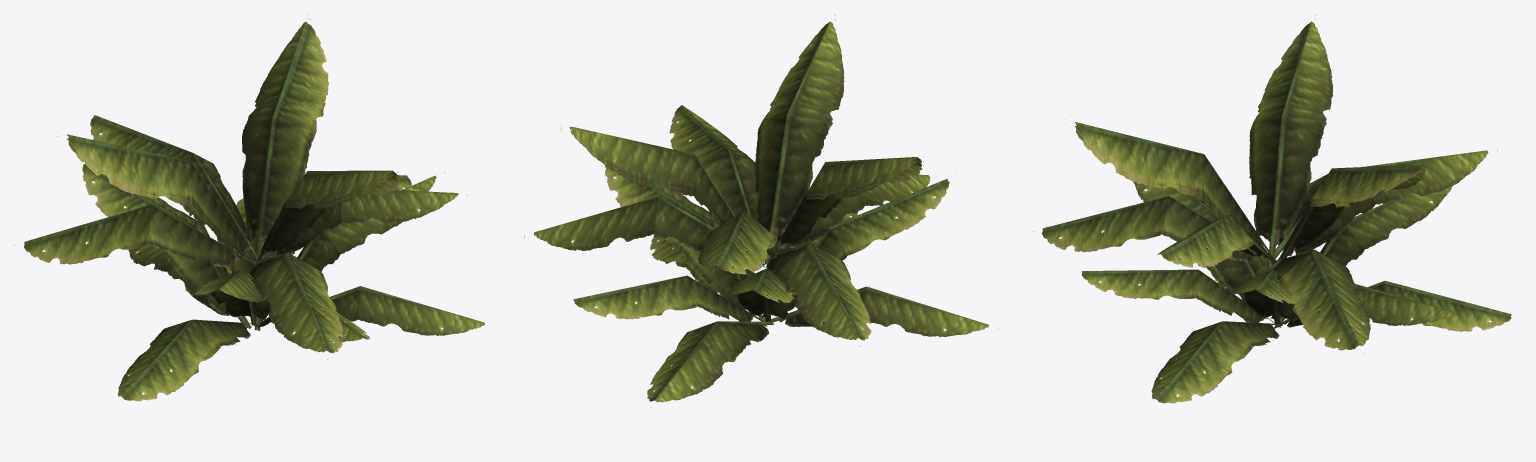
The model's file is tropic_bush_v2.glb.
3 views of the same model, side by side, from view 1: azimuth 30°, elevation 25°; view 2: azimuth 150°, elevation 25°; view 3: azimuth 270°, elevation 25° (orthographic).
Parts seen in each view (by area): view 1: fern_tropical_a; view 2: fern_tropical_a; view 3: fern_tropical_a.
Boxes of the visible parts, <box> form: fern_tropical_a: <box>14,14,494,401</box>; fern_tropical_a: <box>524,14,998,407</box>; fern_tropical_a: <box>1033,14,1511,403</box>.
Size of the model in its own units: 8.8 by 5 by 9.02.
Materials: 1 (1 with a texture image).
